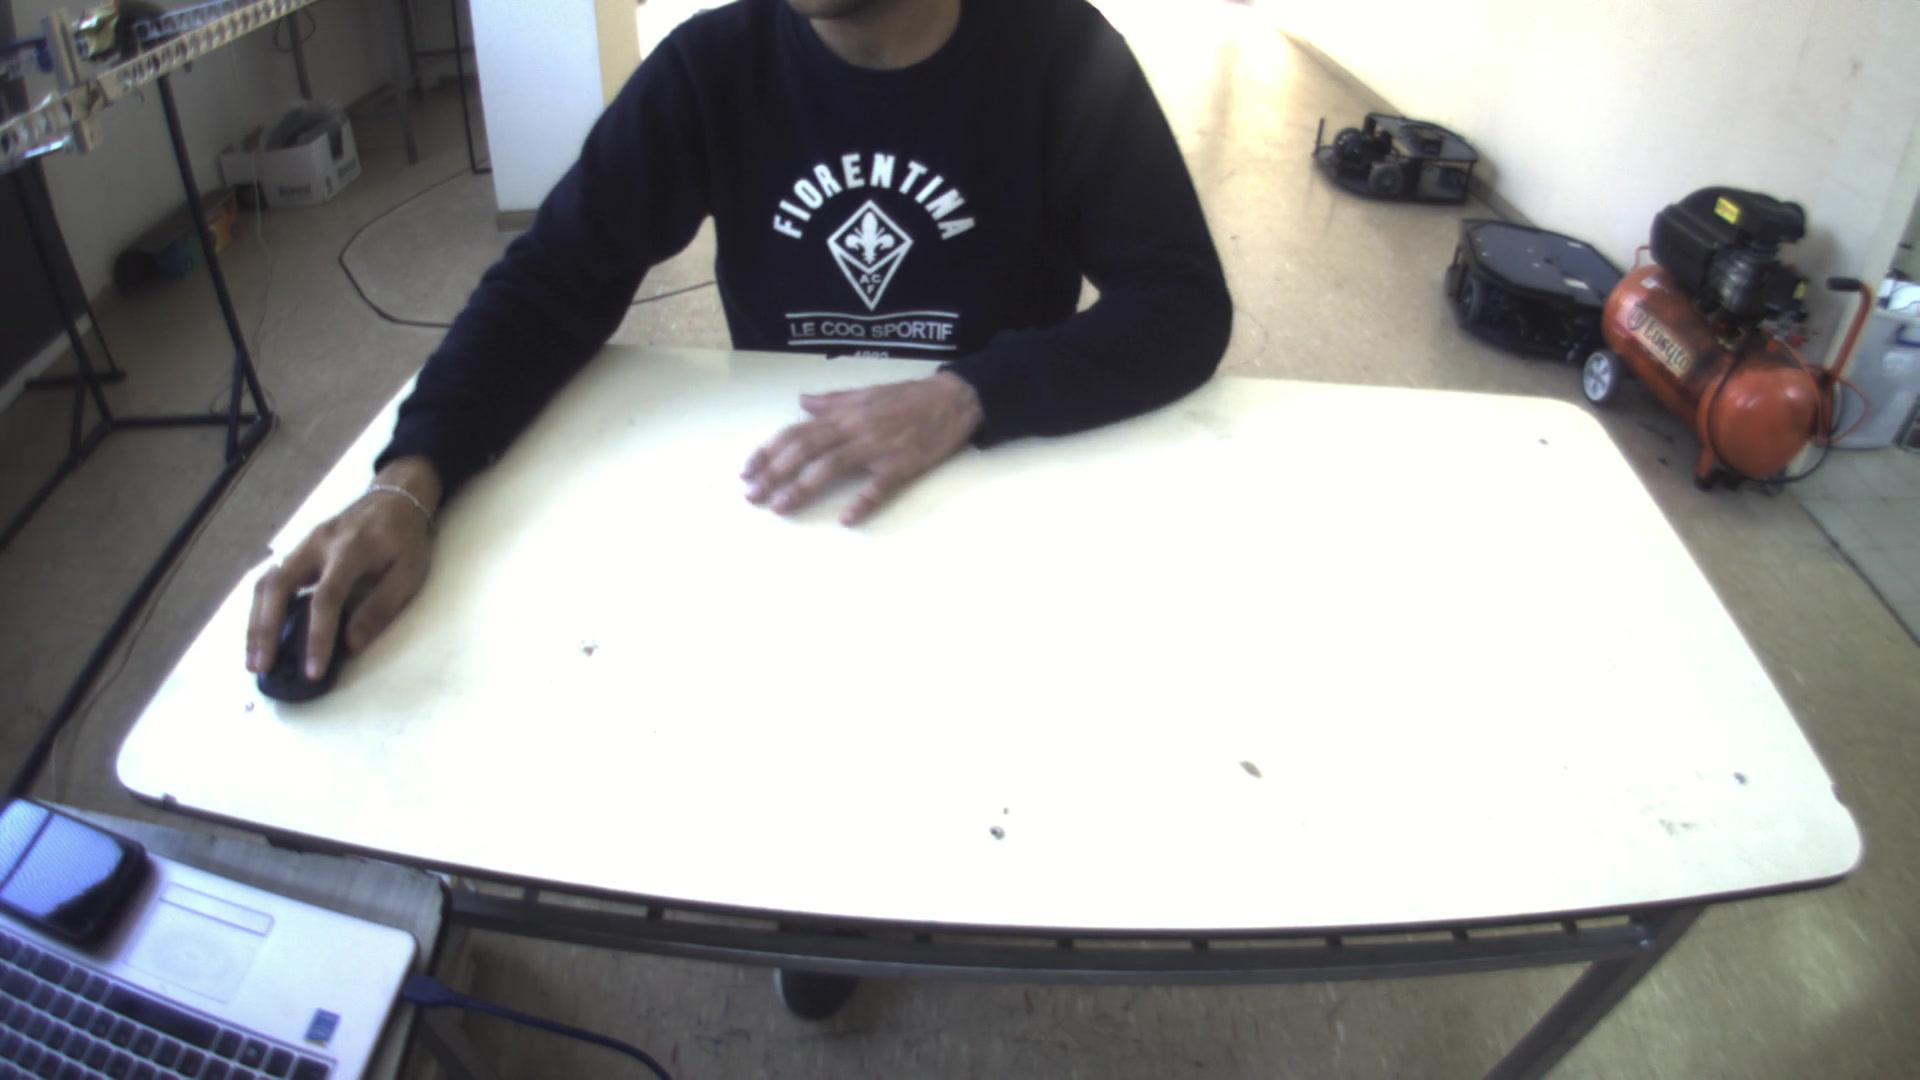hand: (233, 469, 440, 711), (723, 355, 993, 533)
